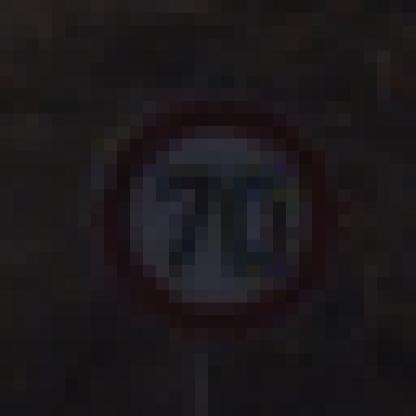Speed Limit 70: (107, 108, 326, 326)
